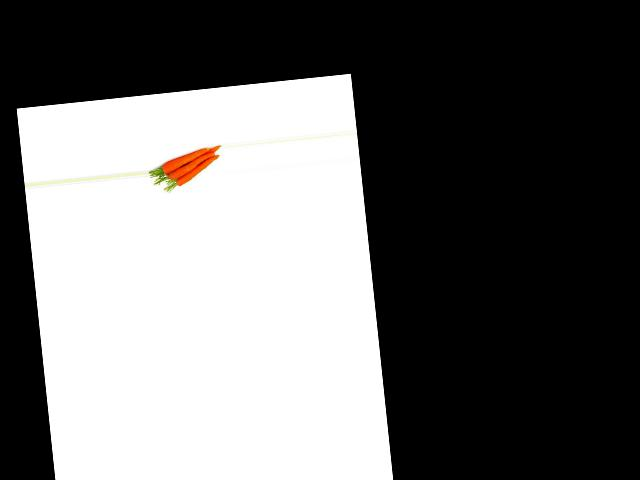carrot: (155, 145, 211, 174)
